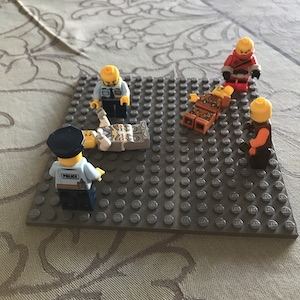Lego: (44, 126, 105, 209), (74, 110, 150, 154), (236, 95, 277, 167), (180, 85, 234, 134), (220, 36, 261, 93), (90, 65, 132, 120)
